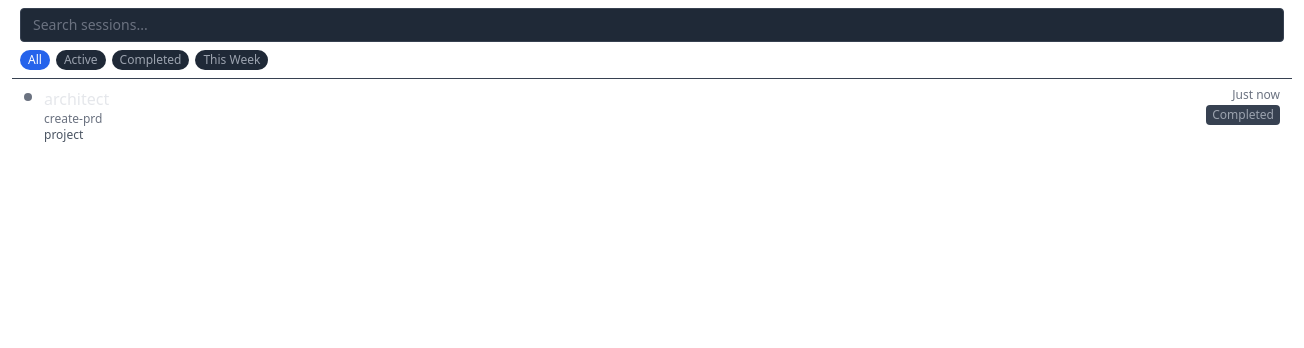
Test: SessionList › filter chips › shows empty state message when Active filter has no matches
Click the button "Active" at [81, 60], box [56, 50, 106, 70]
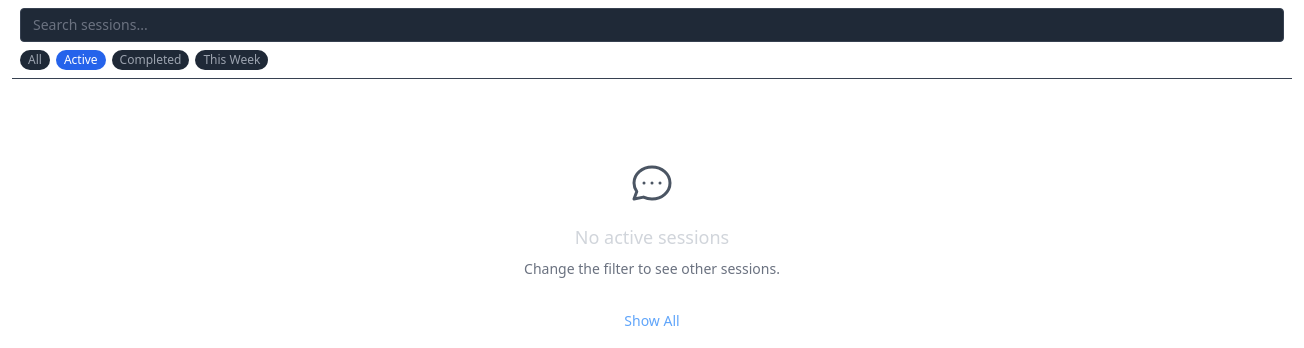
Result: the heading "No active sessions" is shown at [575, 223, 729, 251]
Result: the button "Show All" is shown at [624, 311, 680, 331]
